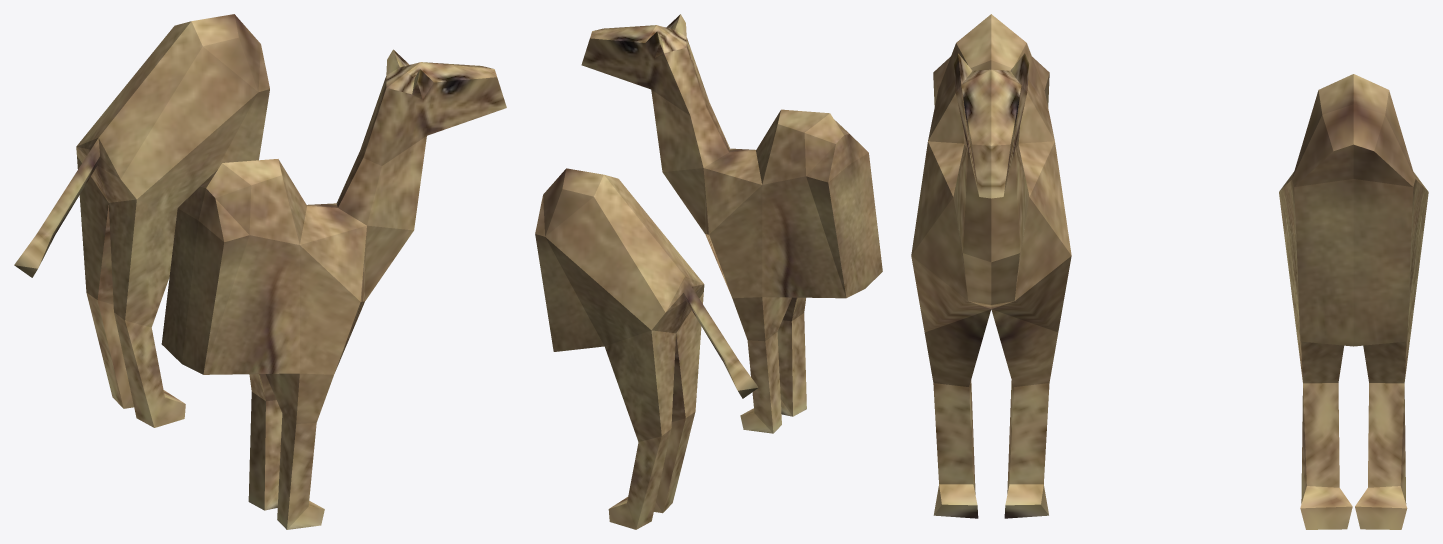
File: GarbageEnemyCamel_2items.fbx
3 views of the same model, side by side, from view 1: azimuth 30°, elevation 25°; view 2: azimuth 150°, elevation 25°; view 3: azimuth 270°, elevation 25° (orthographic). The views are drawn at different scales.
Visible parts, largest first — view 1: Camel1, Camel2; view 2: Camel1, Camel2; view 3: Camel1, Camel2.
Boxes of the visible parts, bbox=[...] form: Camel1: bbox=[161, 49, 506, 529]; Camel2: bbox=[14, 14, 269, 427]; Camel1: bbox=[581, 14, 882, 433]; Camel2: bbox=[535, 168, 758, 529]; Camel1: bbox=[911, 14, 1071, 518]; Camel2: bbox=[1279, 74, 1428, 529].
Size of what is drawn, in the model's own units: 15.4 by 18.28 by 16.
